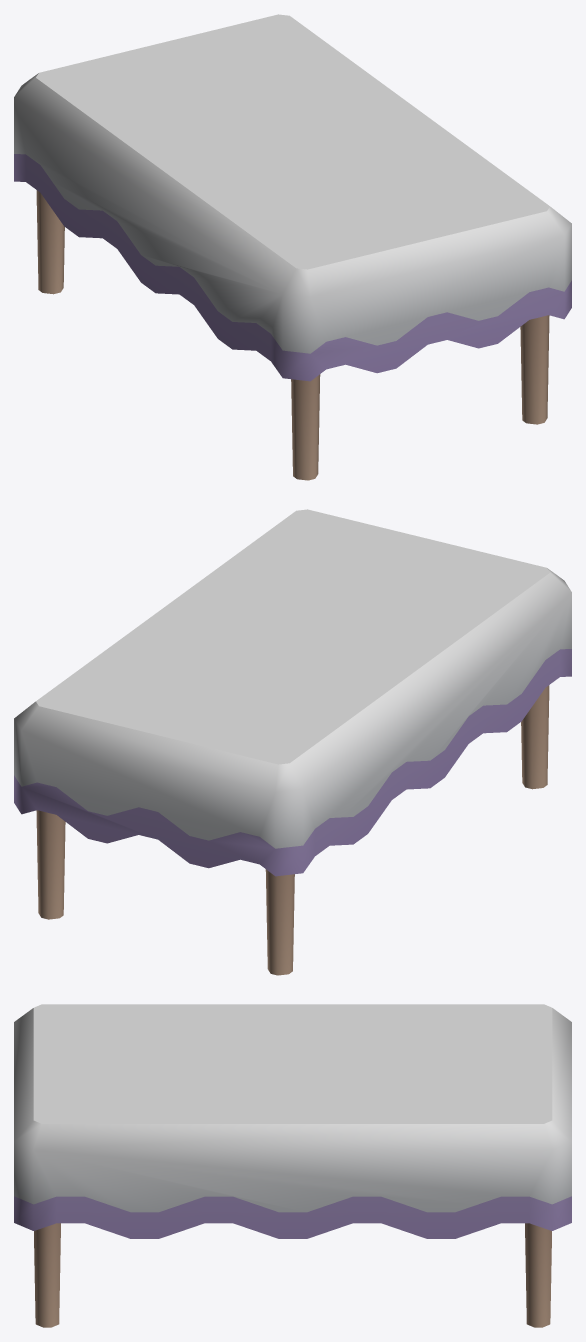
The model's file is table-classic-wood-rectangle-cloth.glb.
3 renders of one model, top to bottom at view 1: azimuth 30°, elevation 25°; view 2: azimuth 150°, elevation 25°; view 3: azimuth 270°, elevation 25°, orthographic. The views are drawn at different scales.
Parts seen in each view (by area): view 1: table-classic-wood-rectangle-cloth; view 2: table-classic-wood-rectangle-cloth; view 3: table-classic-wood-rectangle-cloth.
Part boxes in pixels (x1=…): table-classic-wood-rectangle-cloth: x1=14, y1=14, x2=571, y2=480; table-classic-wood-rectangle-cloth: x1=14, y1=509, x2=571, y2=975; table-classic-wood-rectangle-cloth: x1=14, y1=1004, x2=571, y2=1327.
Bounding box in the file's own units: 0.82 × 0.5746 × 1.42.
